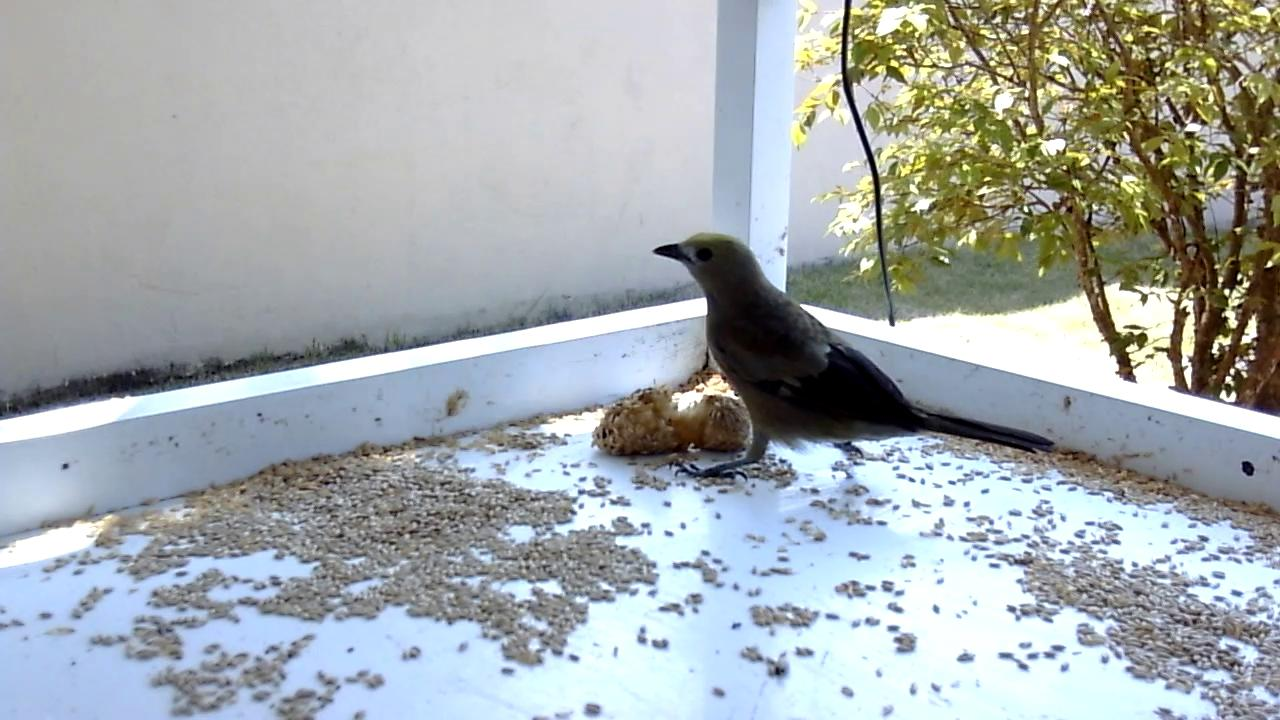sanhaco_do_coqueiro: (649, 230, 1060, 488)
